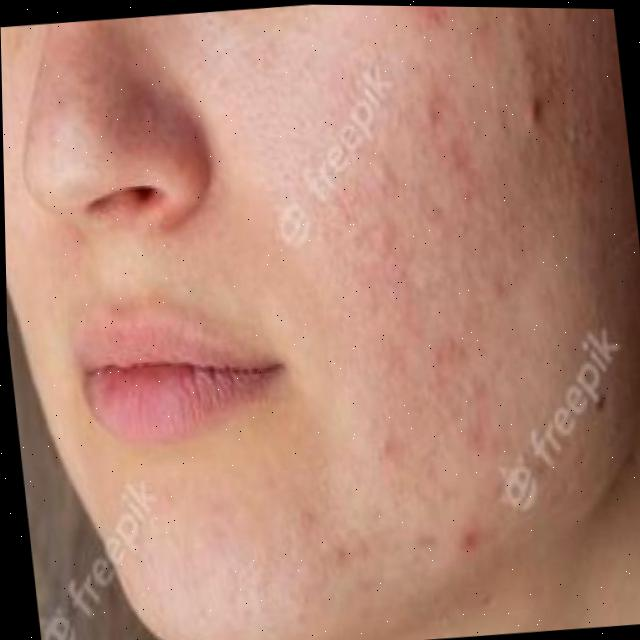Acne: (296, 17, 608, 360)
